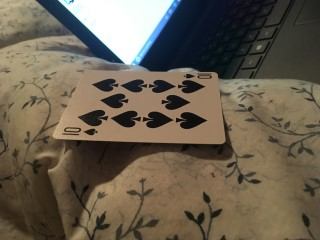TenOfSpades: (52, 70, 226, 143)
